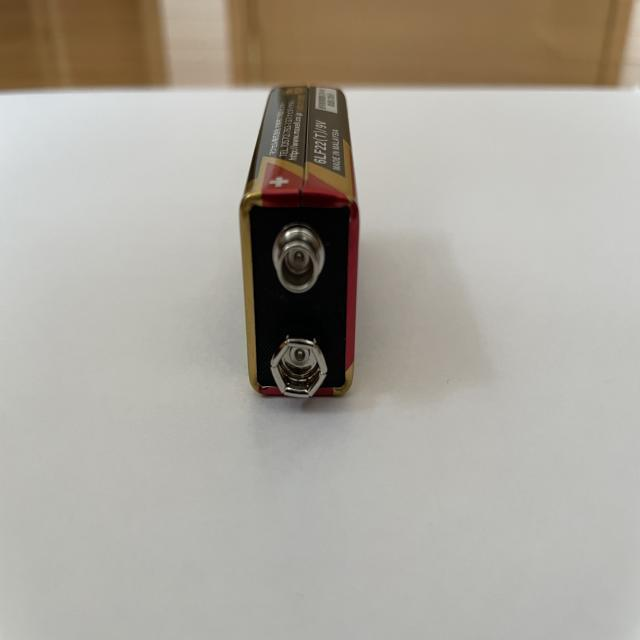9V: (238, 85, 361, 407)
